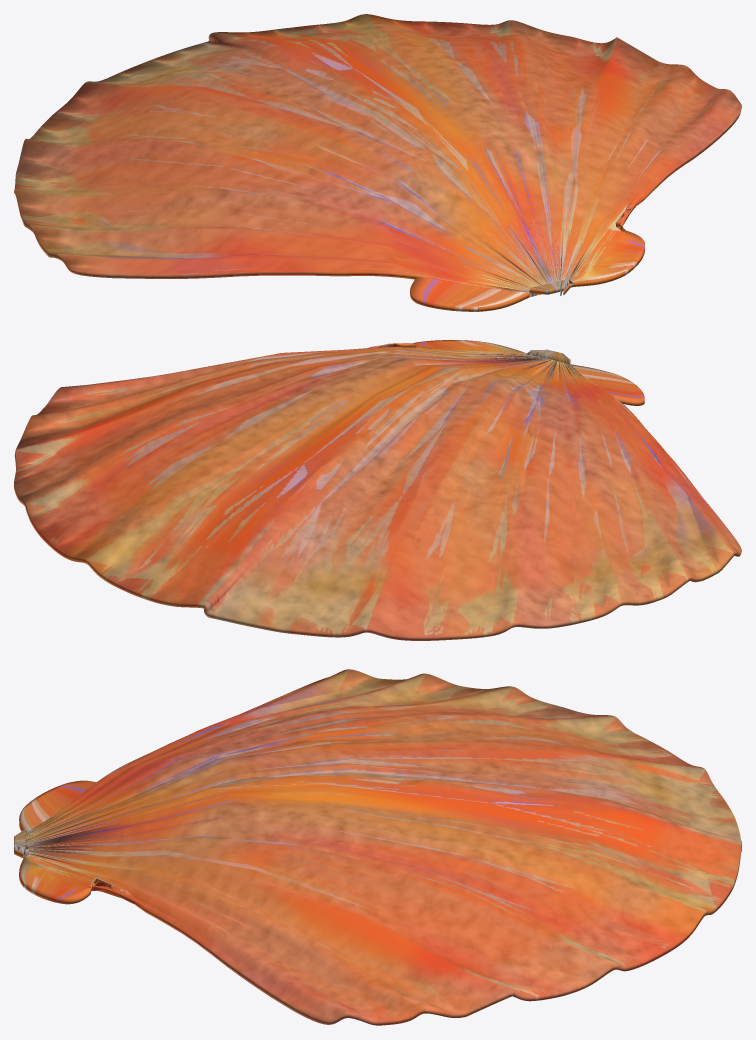
File: jakobsmuschel.glb
3 renders of one model, top to bottom at view 1: azimuth 30°, elevation 25°; view 2: azimuth 150°, elevation 25°; view 3: azimuth 270°, elevation 25°, orthographic. The views are drawn at different scales.
Visible parts, largest first — view 1: Plane; view 2: Plane; view 3: Plane.
Part boxes in pixels (box(x1,y1,x2,y2)): Plane: box(14, 14, 741, 311); Plane: box(14, 340, 741, 640); Plane: box(14, 669, 741, 1025).
Size of the model in its own units: 4.7 by 0.4959 by 4.19.
Materials: 1 (1 with a texture image).
